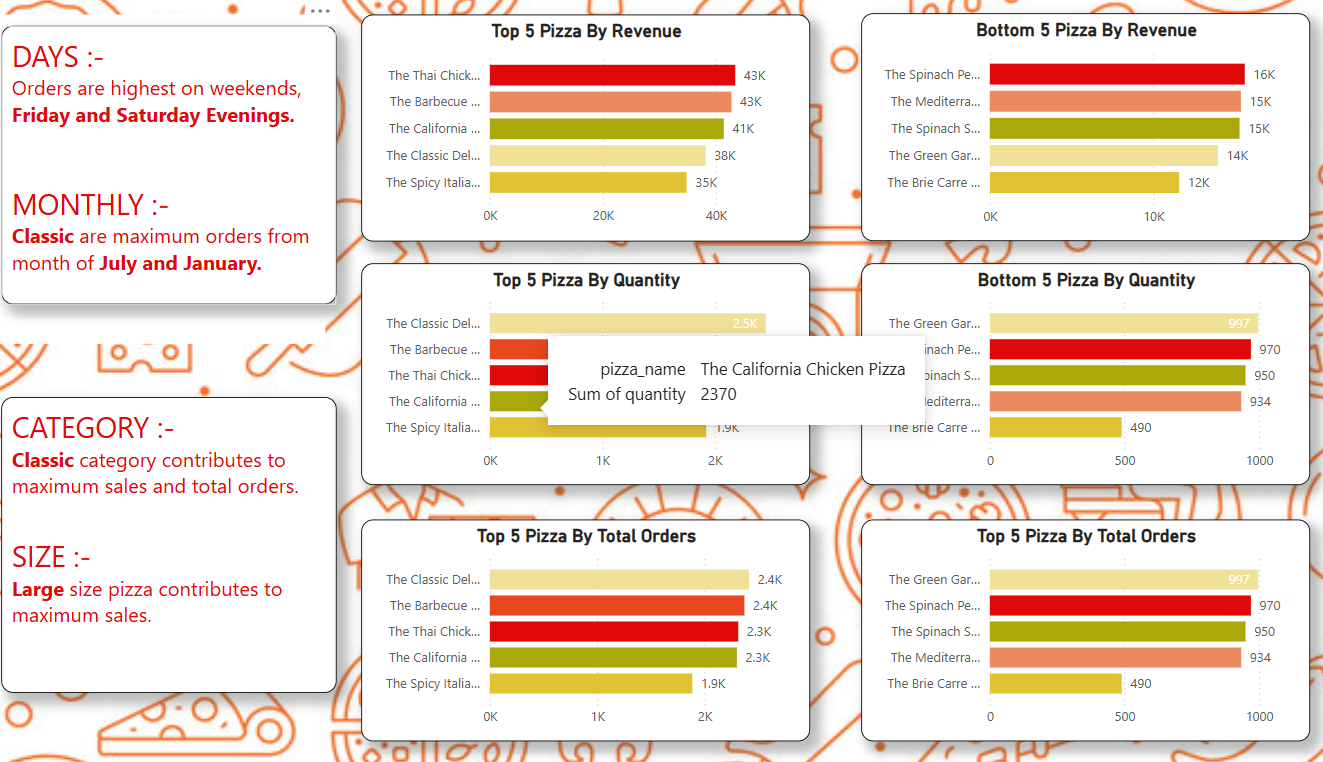

This screenshot's page, from the dashboard's own definition file:
{"tool":"powerbi","page":{"name":"Top 5","canvas":[1280,720],"ordinal":1},"visuals":[{"type":"barChart","title":"Top 5 Pizza By Revenue","fields":{"Y":["Sum(pizza_sales.total_price)"],"Category":["pizza_sales.pizza_name"]},"box":[344.9,21.4,417.6,211],"z":0},{"type":"barChart","title":"Bottom 5 Pizza By Revenue","fields":{"Y":["Sum(pizza_sales.total_price)"],"Category":["pizza_sales.pizza_name"]},"box":[811,20,417.6,212.4],"z":1000},{"type":"barChart","title":"Top 5 Pizza By Quantity","fields":{"Category":["pizza_sales.pizza_name"],"Y":["Sum(pizza_sales.quantity)"]},"box":[344.9,252.3,417.6,206.7],"z":2000},{"type":"barChart","title":"Bottom 5 Pizza By Quantity","fields":{"Category":["pizza_sales.pizza_name"],"Y":["Sum(pizza_sales.quantity)"]},"box":[811,252.3,417.6,206.7],"z":3000},{"type":"barChart","title":"Top 5 Pizza By Total Orders","fields":{"Category":["pizza_sales.pizza_name"],"Y":["CountNonNull(pizza_sales.unit_price)"]},"box":[344.9,490.3,417.6,206.7],"z":4000},{"type":"barChart","title":"Top 5 Pizza By Total Orders","fields":{"Category":["pizza_sales.pizza_name"],"Y":["Sum(pizza_sales.quantity)"]},"box":[811,490.3,417.6,206.7],"z":5000},{"type":"textbox","box":[0,21.4,312.2,306.5],"z":6000},{"type":"textbox","box":[10,31.4,312.2,259.4],"z":7000},{"type":"textbox","box":[10,376.3,312.2,275.1],"z":8000}]}

Visuals, with their boxes in screenshot pixels (x1, y1, x2, y2), scaled from the page's 1280x720 canvas onto the 1323x762 screenshot:
"Top 5 Pizza By Revenue" barChart: {"left": 356, "top": 23, "right": 788, "bottom": 246}
"Bottom 5 Pizza By Revenue" barChart: {"left": 838, "top": 21, "right": 1270, "bottom": 246}
"Top 5 Pizza By Quantity" barChart: {"left": 356, "top": 267, "right": 788, "bottom": 486}
"Bottom 5 Pizza By Quantity" barChart: {"left": 838, "top": 267, "right": 1270, "bottom": 486}
"Top 5 Pizza By Total Orders" barChart: {"left": 356, "top": 519, "right": 788, "bottom": 738}
"Top 5 Pizza By Total Orders" barChart: {"left": 838, "top": 519, "right": 1270, "bottom": 738}
textbox: {"left": 0, "top": 23, "right": 323, "bottom": 347}
textbox: {"left": 10, "top": 33, "right": 333, "bottom": 308}
textbox: {"left": 10, "top": 398, "right": 333, "bottom": 689}
